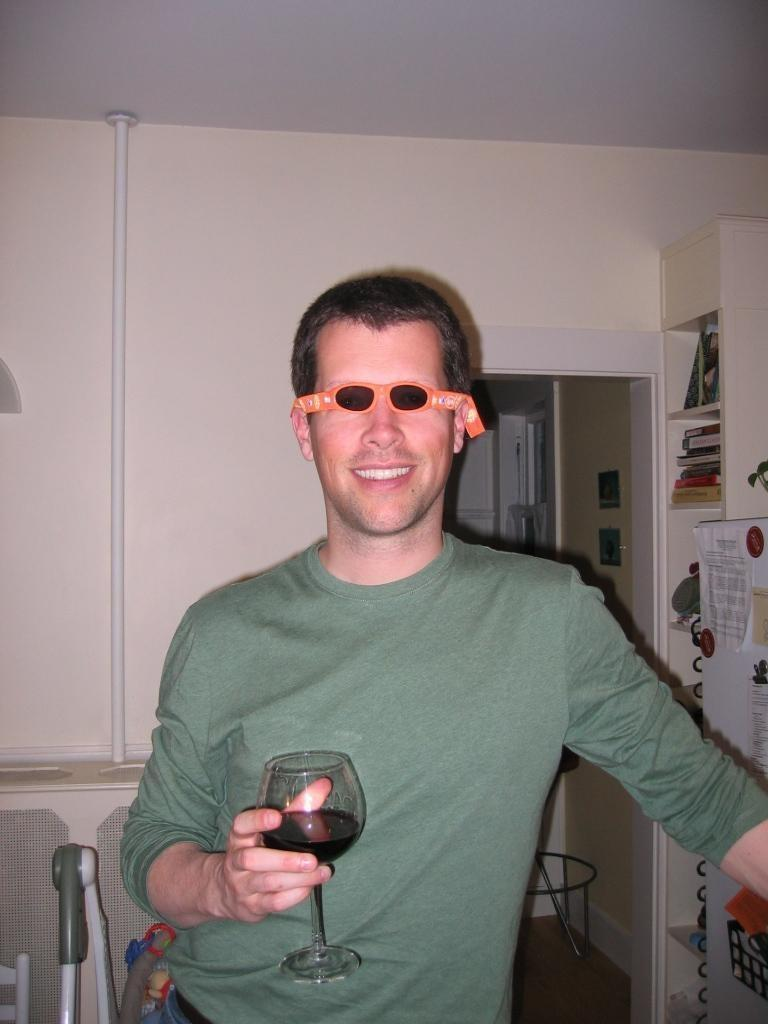glass-wine: (260, 750, 365, 982)
